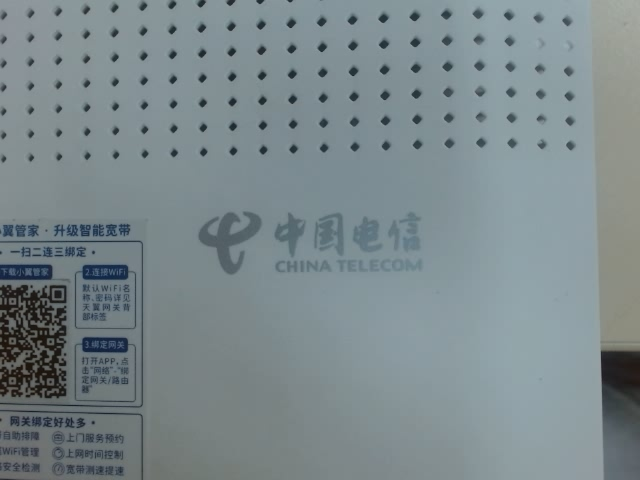AB_ChinaTelecom: (179, 187, 436, 289)
